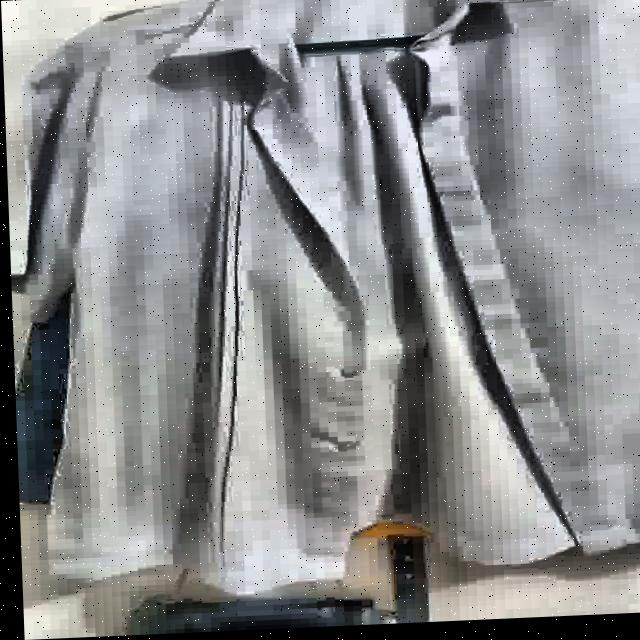clothes: (10, 0, 640, 600)
